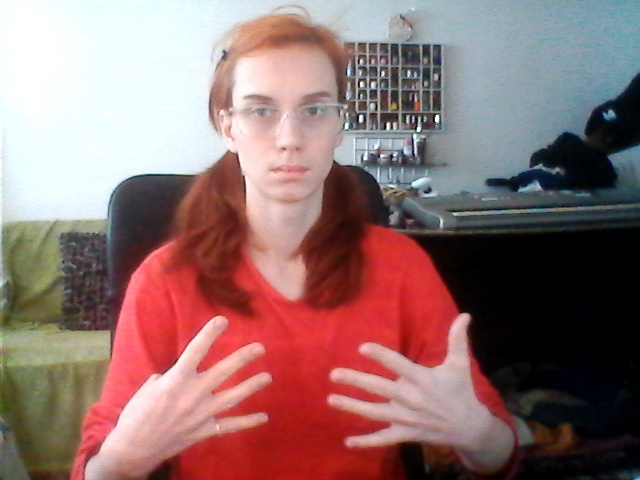devat: (117, 308, 490, 457)
